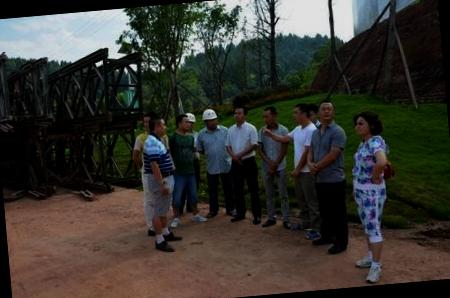no_helmet: (351, 108, 384, 141), (316, 96, 339, 127), (260, 102, 280, 128), (148, 114, 167, 138), (292, 102, 310, 127), (232, 102, 250, 125), (138, 109, 155, 132), (306, 100, 321, 126), (174, 112, 192, 133)
